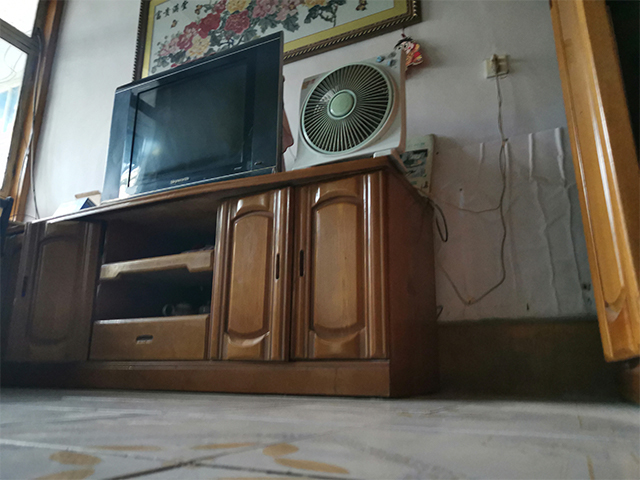cabinet: (1, 151, 446, 402)
